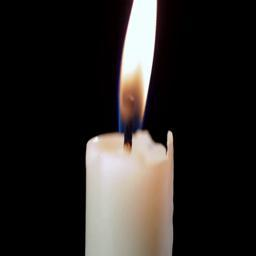fire: (119, 0, 157, 134)
